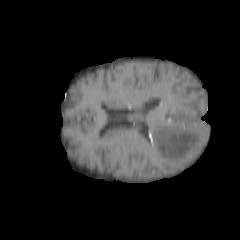glioma: (144, 121, 203, 160)
